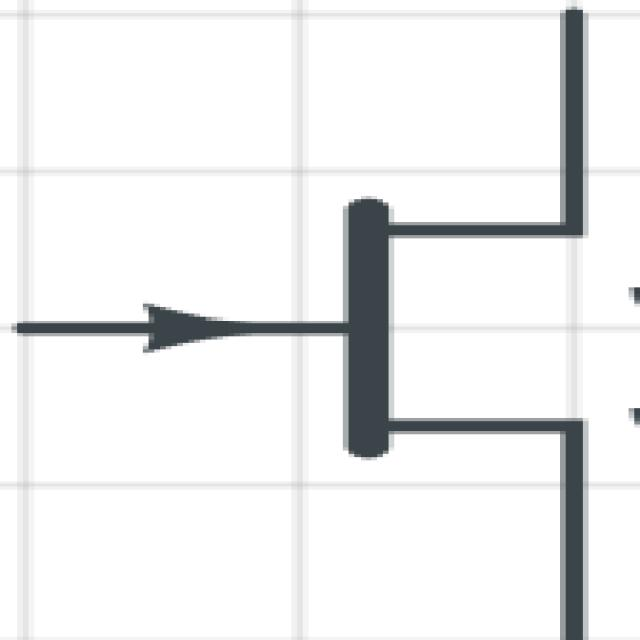nmos: (11, 14, 640, 637)
